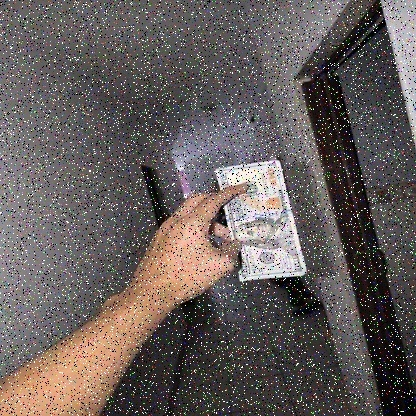one_hundred-front: (213, 159, 309, 284)
